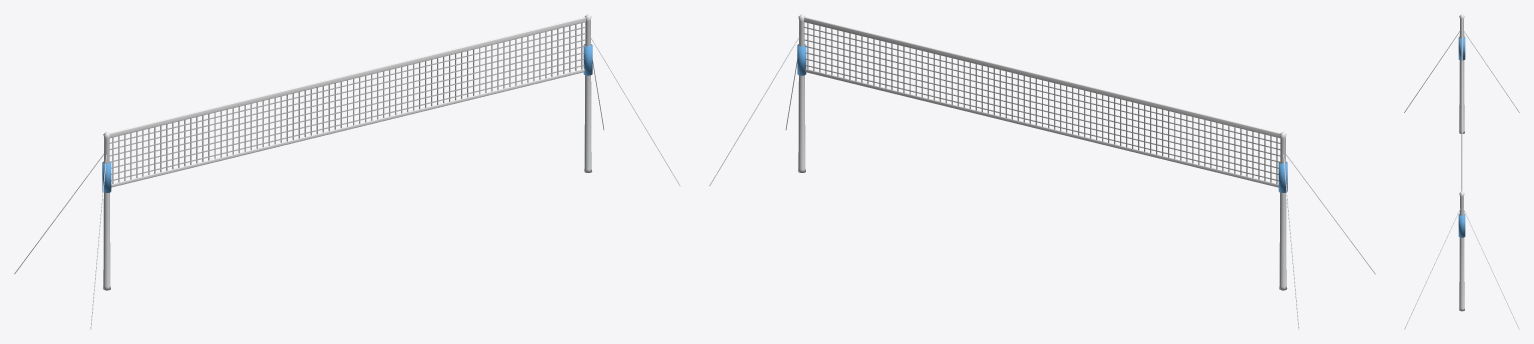
File: volley_net.glb
The picture shows the model from 3 angles, left to right: view 1: azimuth 30°, elevation 25°; view 2: azimuth 150°, elevation 25°; view 3: azimuth 270°, elevation 25°; orthographic projection. The views are drawn at different scales.
Parts seen in each view (by area): view 1: rede; view 2: rede; view 3: rede.
Boxes of the visible parts, box(x1,y1,x2,y2) form: rede: box(14, 14, 680, 329); rede: box(709, 14, 1375, 329); rede: box(1404, 14, 1519, 329).
Bounding box in the file's own units: 9.81 × 2.5 × 2.21.
